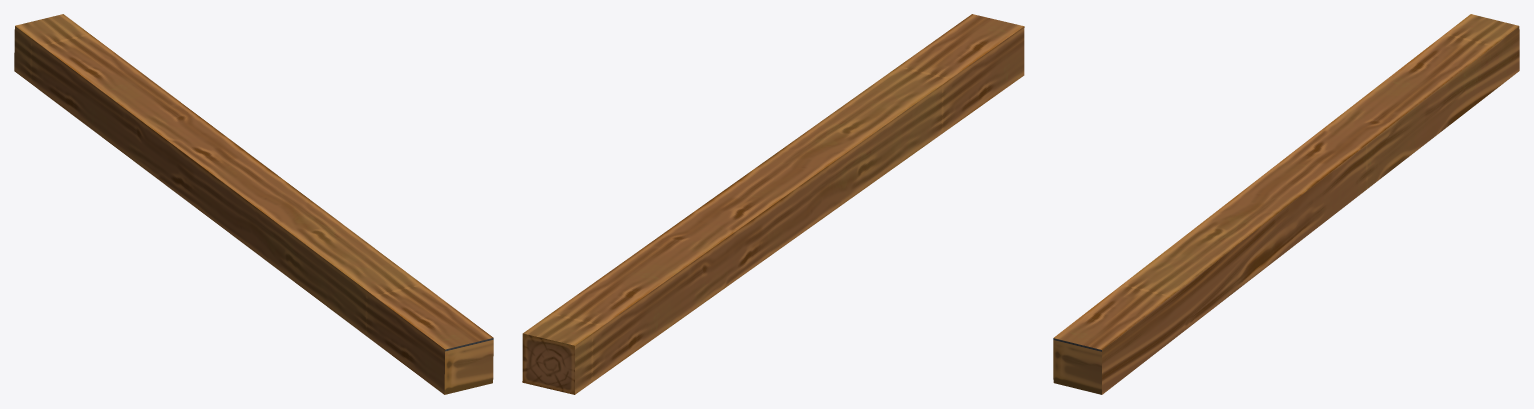
3 views of the same model, side by side, from view 1: azimuth 30°, elevation 25°; view 2: azimuth 150°, elevation 25°; view 3: azimuth 330°, elevation 25° (orthographic). The views are drawn at different scales.
Visible parts, largest first — view 1: Cube.787; view 2: Cube.787; view 3: Cube.787.
Part boxes in pixels (left/top/right/bottom): Cube.787: left=14, top=14, right=493, bottom=394; Cube.787: left=522, top=14, right=1024, bottom=394; Cube.787: left=1053, top=14, right=1519, bottom=394.
Size of the model in its own units: 59.67 by 63.03 by 816.
Materials: 1 (1 with a texture image).
